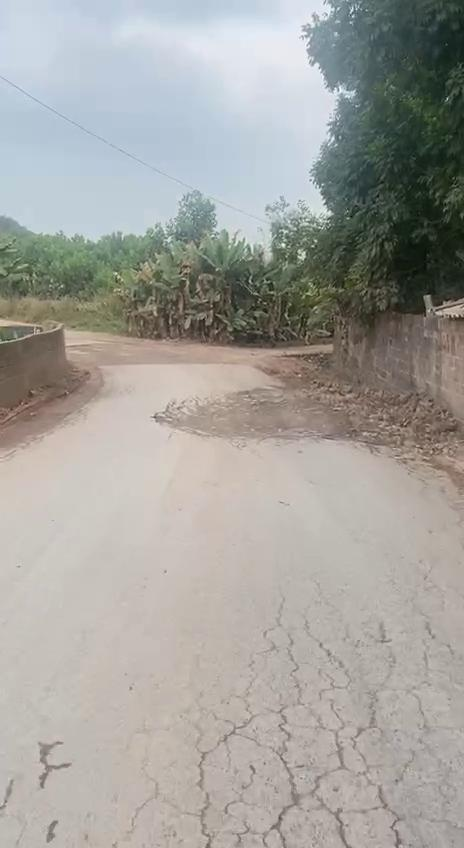pothole: (156, 380, 360, 441)
